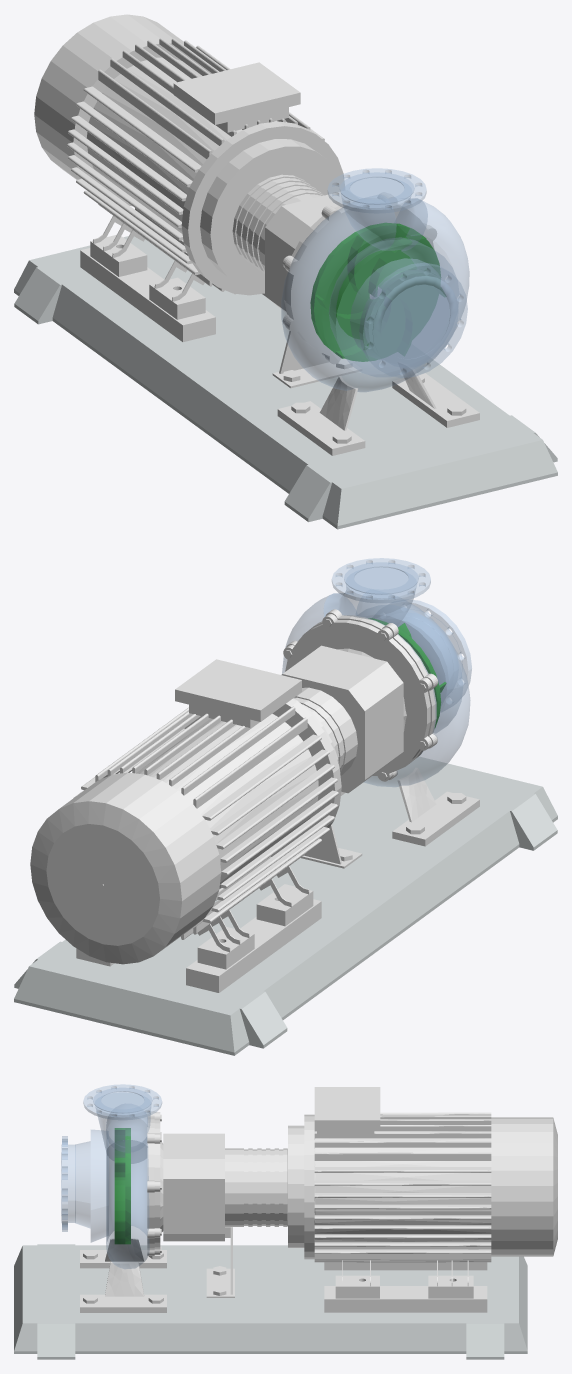
3 renders of one model, top to bottom at view 1: azimuth 30°, elevation 25°; view 2: azimuth 150°, elevation 25°; view 3: azimuth 270°, elevation 25°, orthographic. The views are drawn at different scales.
Visible parts, largest first — view 1: 主体, 底座, 透明外壳, 叶轮; view 2: 主体, 底座, 透明外壳, 叶轮; view 3: 主体, 底座, 透明外壳, 叶轮.
Part boxes in pixels (box(x1,y1,x2,y2)): 主体: box(34, 14, 479, 455); 底座: box(14, 236, 557, 529); 透明外壳: box(281, 168, 469, 391); 叶轮: box(310, 223, 440, 361); 主体: box(30, 609, 479, 992); 底座: box(14, 756, 557, 1055); 透明外壳: box(282, 558, 471, 786); 叶轮: box(369, 618, 446, 727); 主体: box(80, 1087, 557, 1312); 底座: box(14, 1244, 527, 1359); 透明外壳: box(61, 1084, 161, 1268); 叶轮: box(114, 1128, 130, 1244).
Bounding box in the file's own units: 46.22 × 46.95 × 110.
